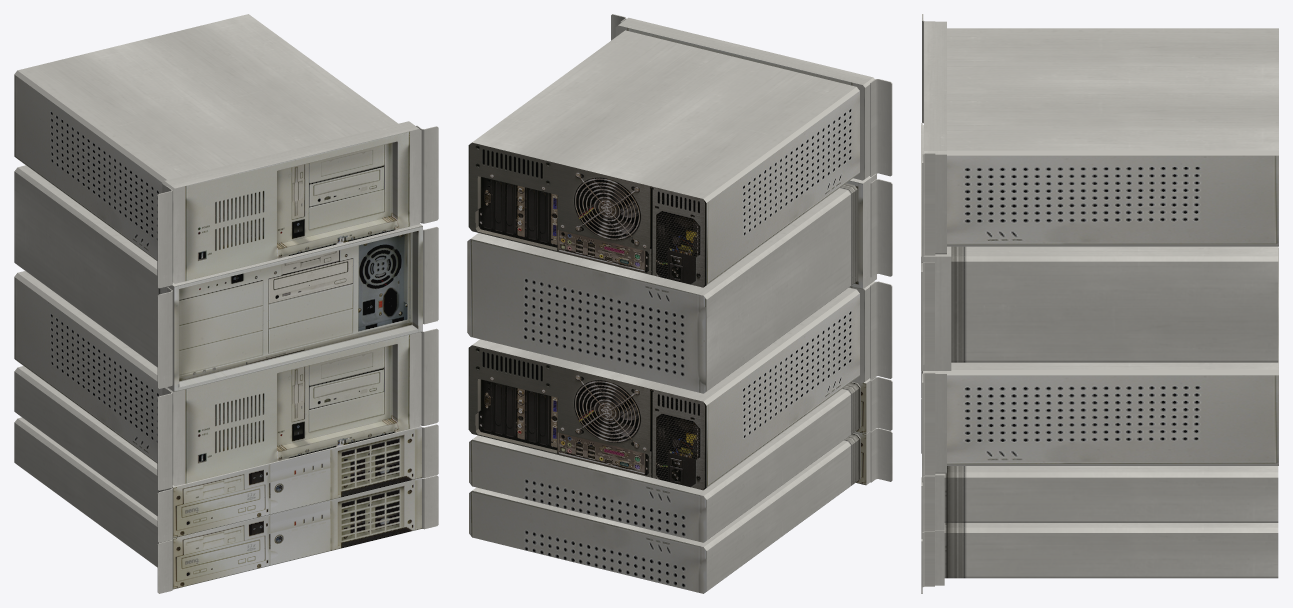
Rendered from servers-1.FBX.
The picture shows the model from 3 angles, left to right: view 1: azimuth 30°, elevation 25°; view 2: azimuth 150°, elevation 25°; view 3: azimuth 270°, elevation 25°; orthographic projection. The views are drawn at different scales.
Parts seen in each view (by area): view 1: Object001, Object002, Box08, Object003; view 2: Object001, Object002, Box08, Object003; view 3: Object001, Object002, Box08, Object003.
Part boxes in pixels (x1,y1,x2,y2): Object001: (14, 14, 438, 288); Object002: (14, 165, 438, 391); Box08: (14, 366, 438, 593); Object003: (14, 271, 438, 490); Object001: (468, 14, 892, 287); Object002: (467, 173, 892, 393); Box08: (469, 376, 892, 593); Object003: (468, 281, 892, 490); Object001: (922, 14, 1278, 262); Object002: (921, 123, 1278, 371); Box08: (921, 371, 1278, 593); Object003: (922, 247, 1278, 482).
Size of the model in its own units: 31.13 by 42.46 by 31.72.
